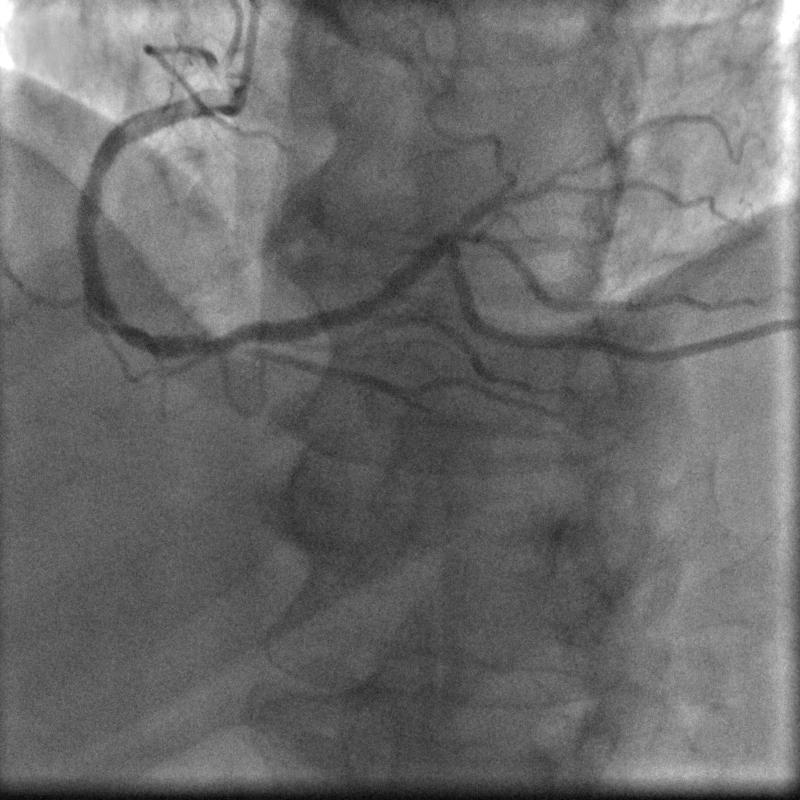Stenosis: (173, 319, 248, 355)
